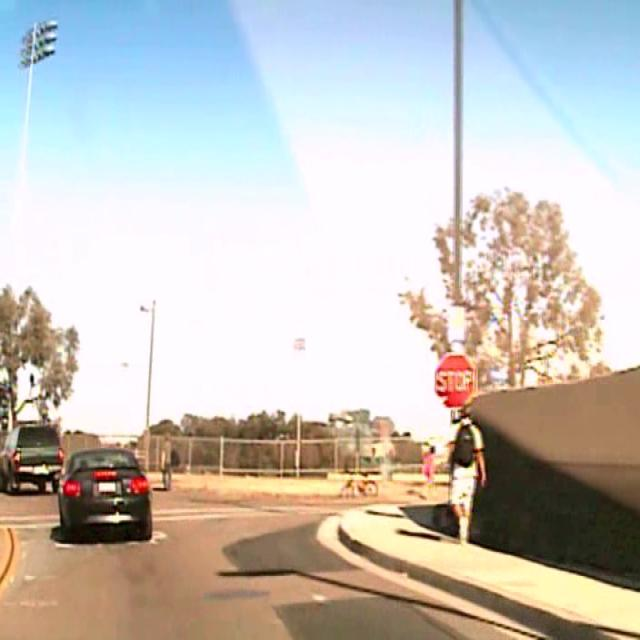stop: (434, 351, 476, 408)
